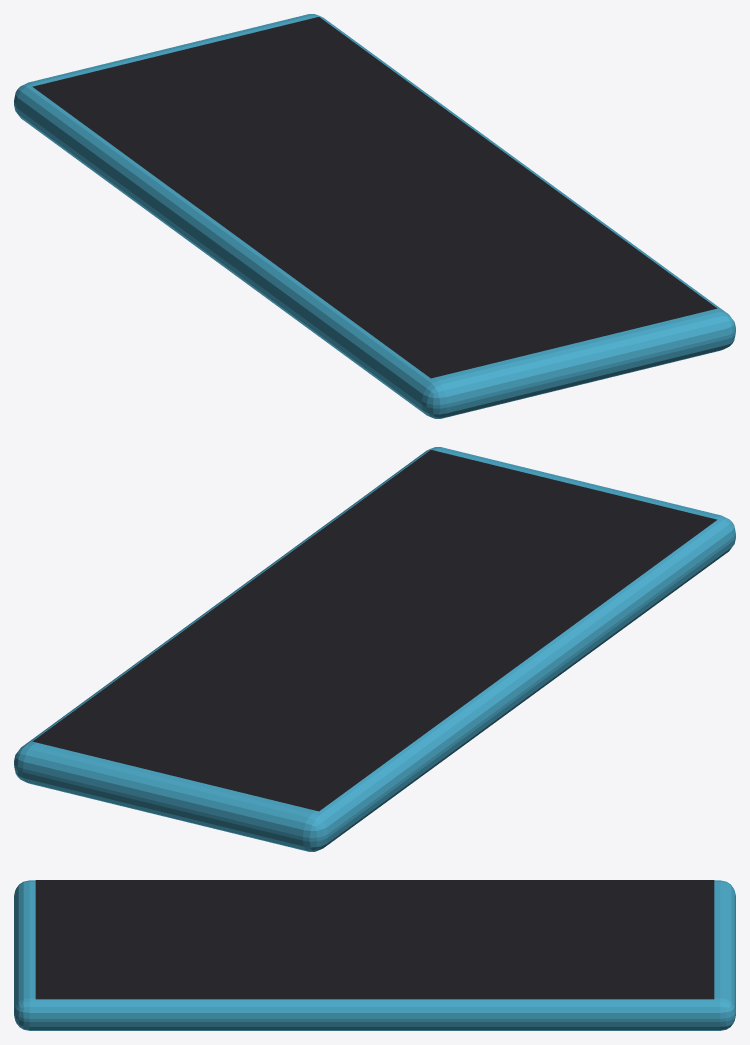
Rendered from Phone_289.glb.
The picture shows the model from 3 angles, top to bottom: view 1: azimuth 30°, elevation 25°; view 2: azimuth 150°, elevation 25°; view 3: azimuth 270°, elevation 25°; orthographic projection. The views are drawn at different scales.
Visible parts, largest first — view 1: Phone_Screen, Phone_Body; view 2: Phone_Screen, Phone_Body; view 3: Phone_Screen, Phone_Body.
Boxes of the visible parts, x1,y1,x2,y2 form: Phone_Screen: [32, 17, 717, 378]; Phone_Body: [14, 14, 735, 418]; Phone_Screen: [32, 450, 717, 811]; Phone_Body: [14, 447, 735, 851]; Phone_Screen: [35, 880, 714, 999]; Phone_Body: [14, 880, 735, 1030].
Bounding box in the file's own units: 0.0701 × 0.008 × 0.1652.
